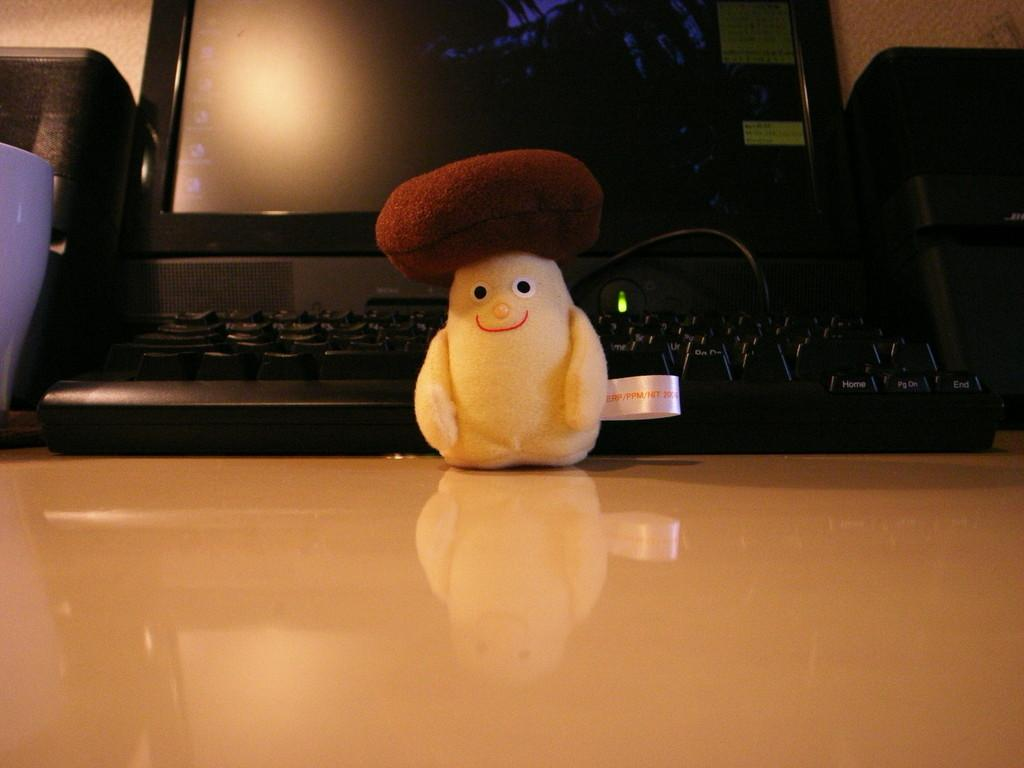Computer-keyboard: (35, 309, 1004, 458)
